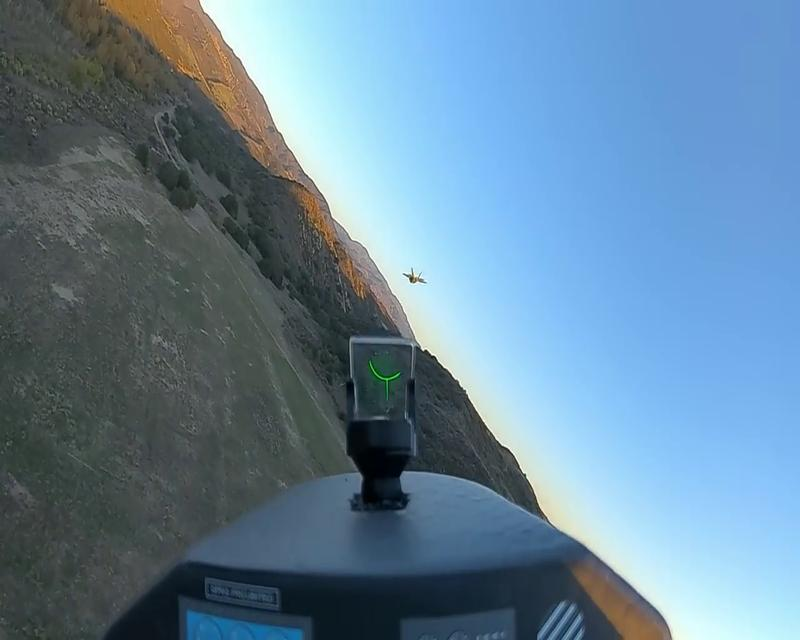UAV: (403, 268, 427, 286)
